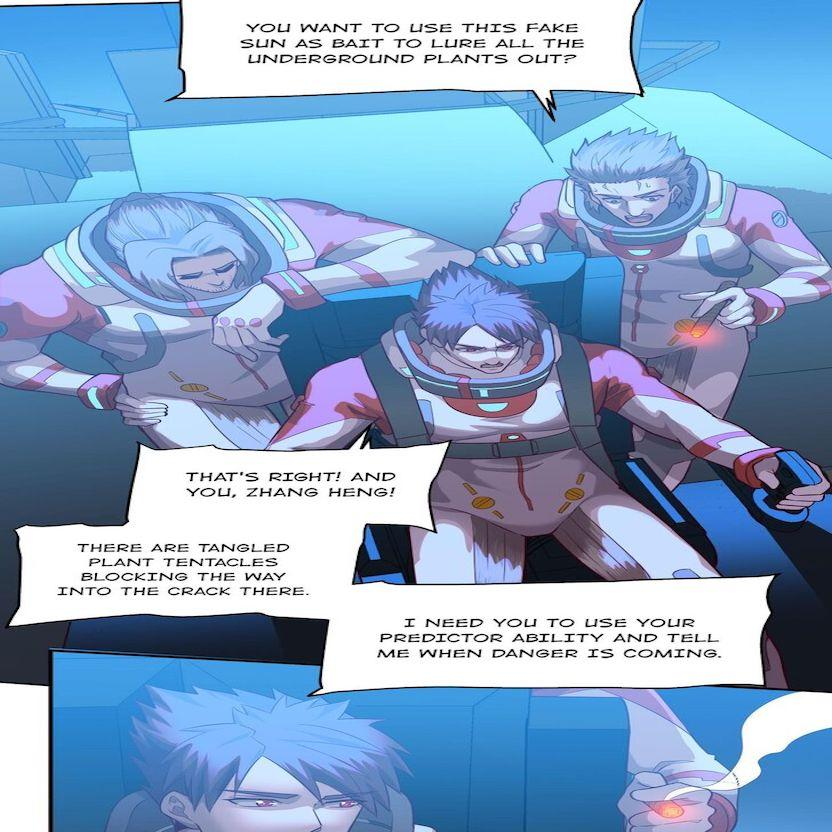Bubble: (163, 0, 648, 104), (309, 613, 778, 698), (8, 528, 370, 608), (129, 439, 452, 522)
